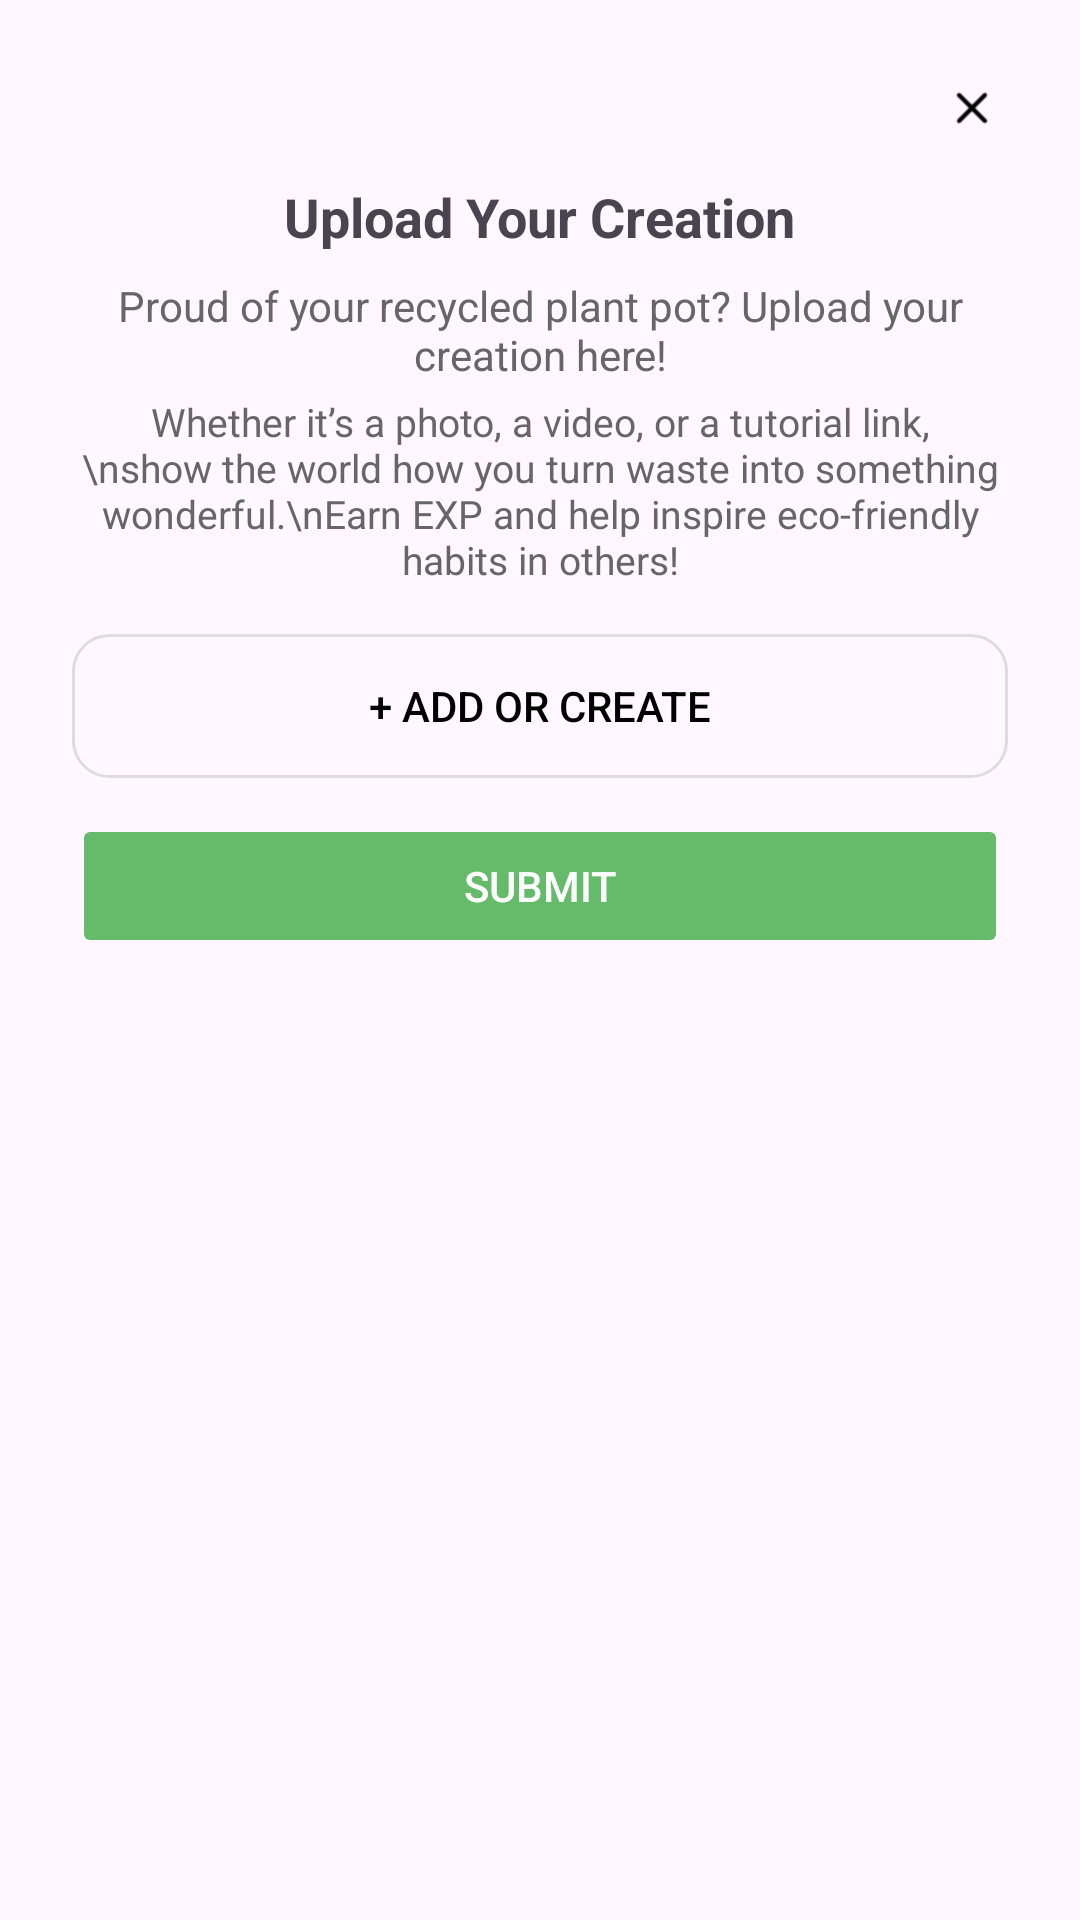

Icon click points for this 1080×1920 phone screenshot, format (x=x, y=y):
Close: (x=972, y=108)
